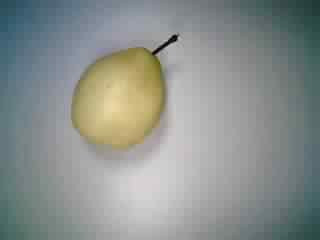pear: (66, 29, 189, 160)
